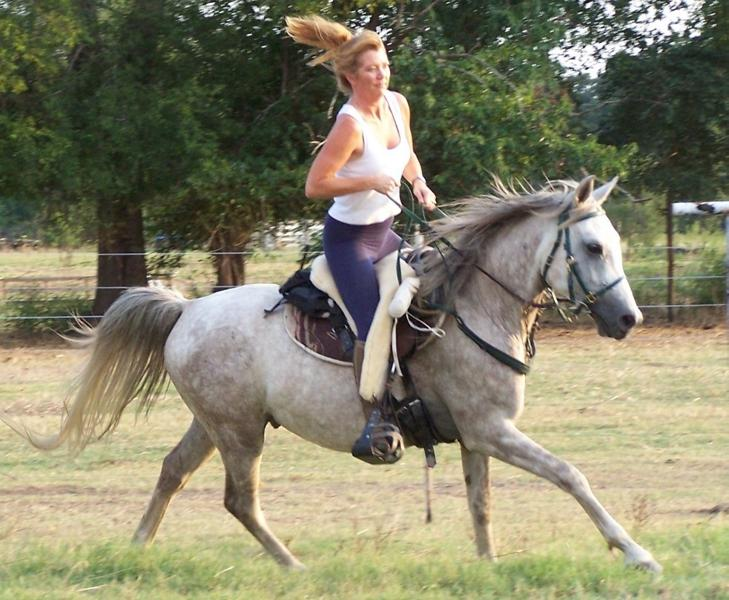person: (285, 12, 439, 469)
